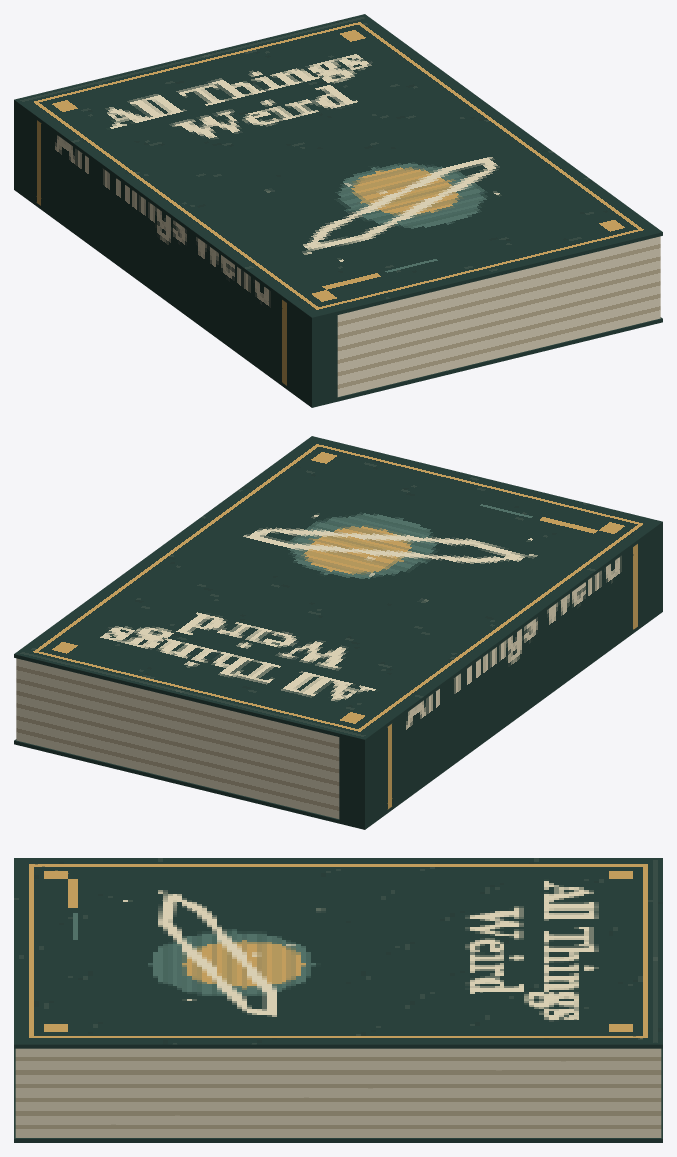
File: book_fict_soft_docu_AWT.glb
3 views of the same model, one above another, from view 1: azimuth 30°, elevation 25°; view 2: azimuth 150°, elevation 25°; view 3: azimuth 270°, elevation 25° (orthographic). The views are drawn at different scales.
Visible parts, largest first — view 1: block_front cover, block_spine, block_page block, block_back cover; view 2: block_front cover, block_spine, block_page block, block_back cover; view 3: block_front cover, block_page block, block_back cover.
Boxes of the visible parts, x1=… form: block_front cover: x1=14, y1=14, x2=662, y2=321; block_spine: x1=14, y1=103, x2=337, y2=404; block_page block: x1=337, y1=236, x2=660, y2=396; block_back cover: x1=14, y1=186, x2=662, y2=407; block_front cover: x1=14, y1=436, x2=662, y2=743; block_spine: x1=339, y1=525, x2=662, y2=826; block_page block: x1=16, y1=658, x2=339, y2=818; block_back cover: x1=14, y1=608, x2=662, y2=829; block_front cover: x1=14, y1=858, x2=662, y2=1048; block_page block: x1=15, y1=1048, x2=661, y2=1137; block_back cover: x1=14, y1=1048, x2=662, y2=1142.
Size of the model in its own units: 0.1224 by 0.03 by 0.18.
1 material, 1 textured.
